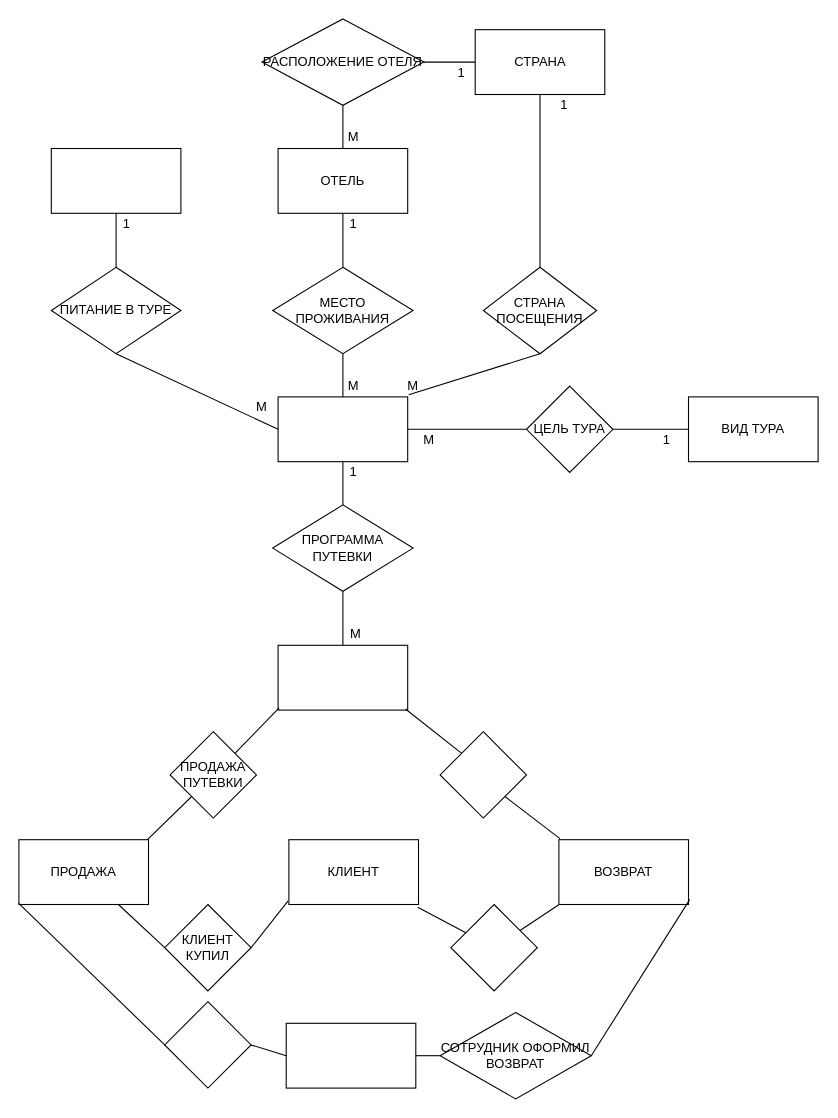
Image size: 838x1118. Some labels were removed from this diagram. The box of each missing label's shape, as (x1, y1, x2, y2) in pixels:
ВОЗВРАТ ПУТЕВКИ: (439, 731, 526, 818)
КЛИЕНТ ВЕРНУЛ: (450, 903, 537, 991)
ПИТАНИЕ: (50, 147, 181, 213)
ПУТЕВКА: (277, 644, 408, 710)
СОТРУДНИК: (285, 1022, 416, 1088)
СОТРУДНИК ПРОДАЛ: (164, 1001, 251, 1088)
ТУР: (277, 396, 408, 462)
